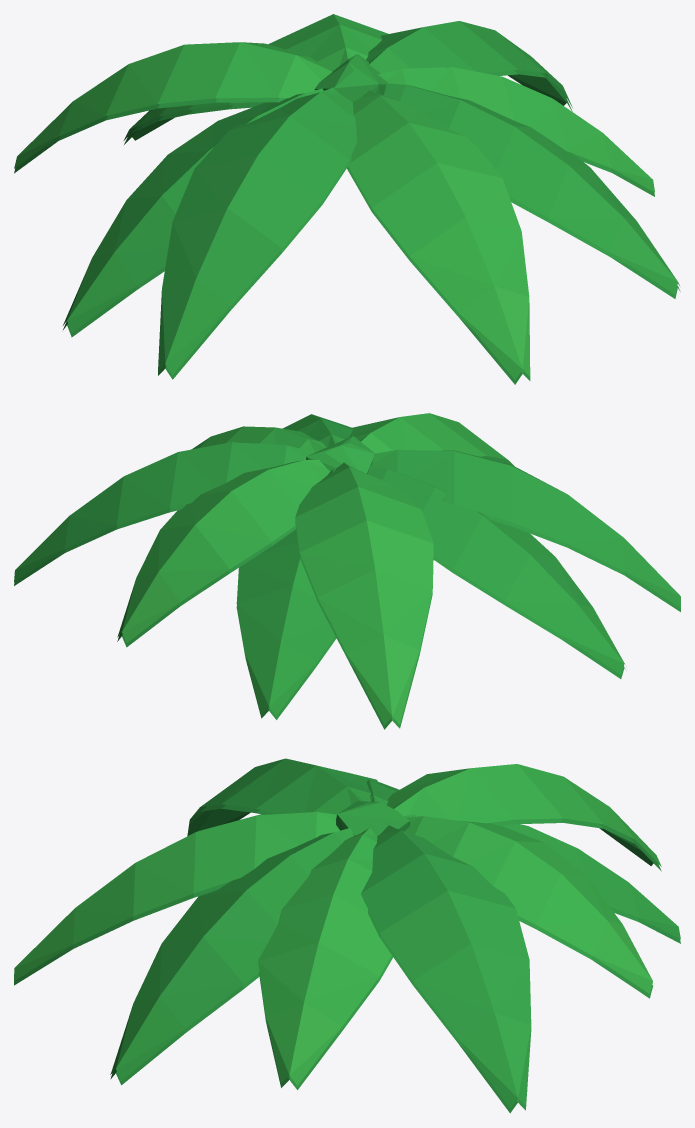
The model's file is PalmCanopy_1.glb.
3 views of the same model, one above another, from view 1: azimuth 30°, elevation 25°; view 2: azimuth 150°, elevation 25°; view 3: azimuth 270°, elevation 25° (orthographic). The views are drawn at different scales.
Visible parts, largest first — view 1: PalmCanopy_1; view 2: PalmCanopy_1; view 3: PalmCanopy_1.
Boxes of the visible parts, left/top/right/bottom form: PalmCanopy_1: left=14, top=14, right=680, bottom=384; PalmCanopy_1: left=14, top=413, right=680, bottom=729; PalmCanopy_1: left=14, top=758, right=680, bottom=1113.
Bounding box in the file's own units: 16.37 × 5.15 × 16.14.
1 material, 1 textured.
